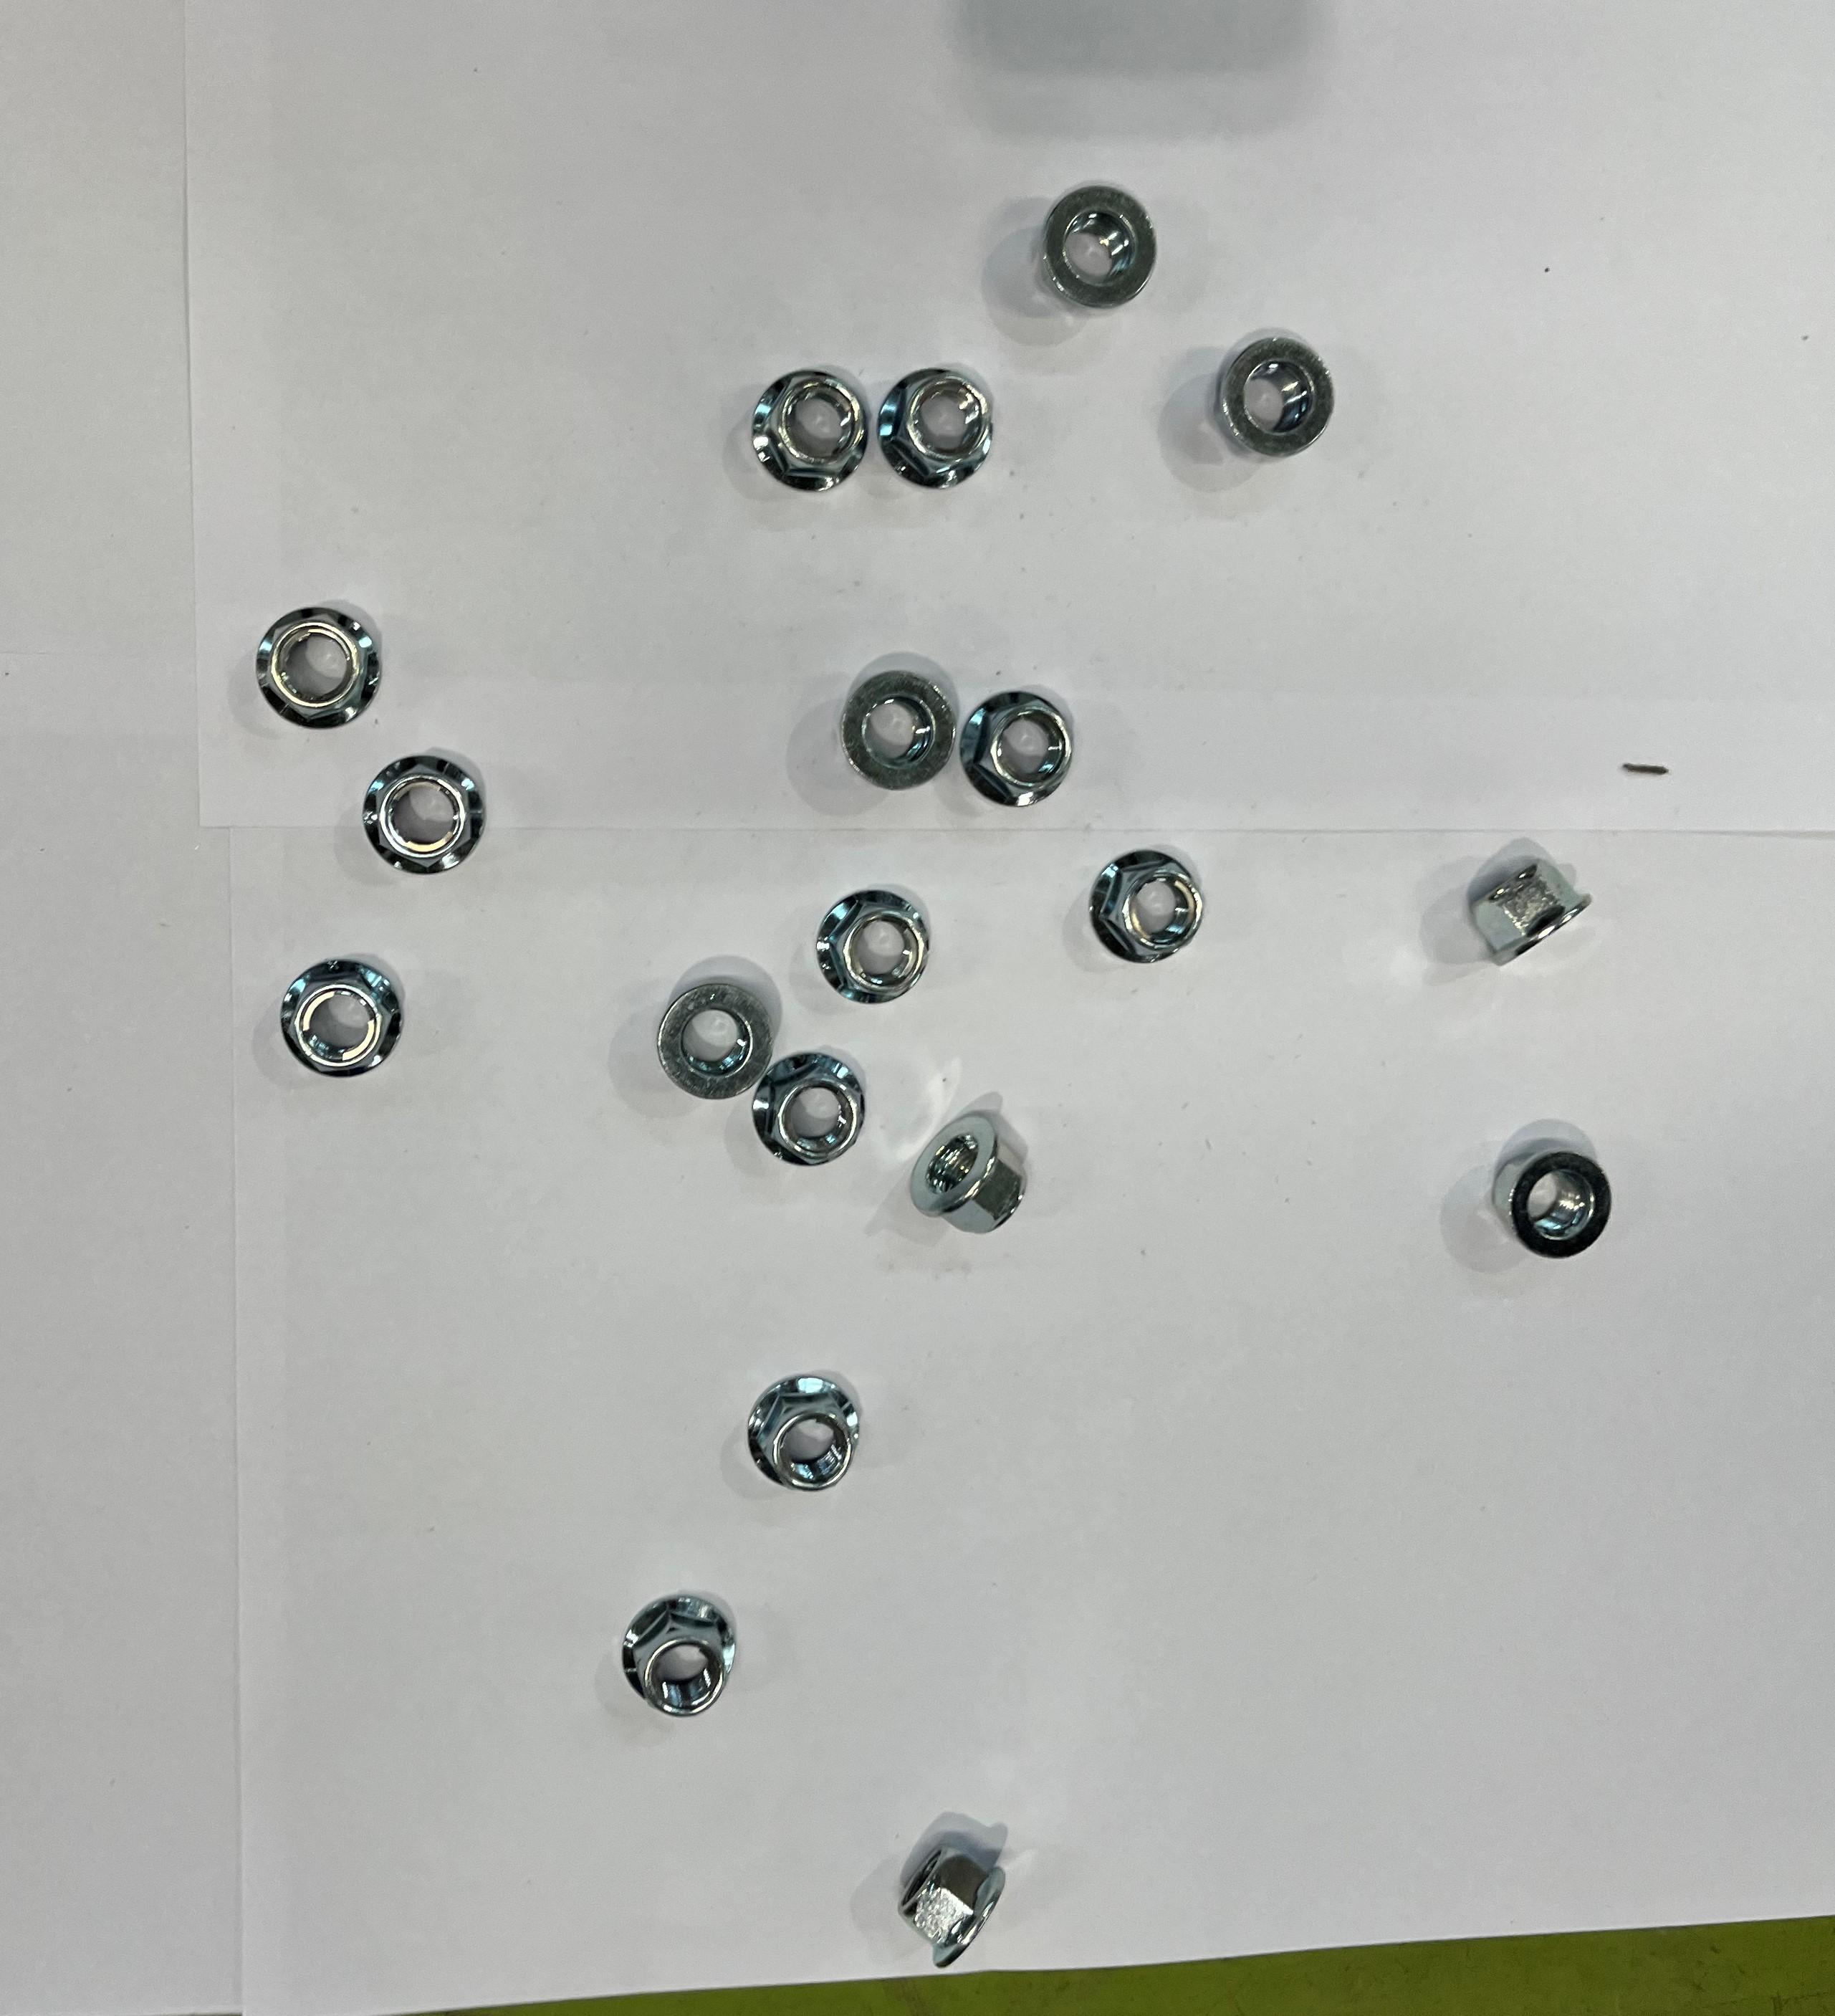Type B: (255, 606, 399, 732), (337, 757, 486, 873), (1036, 188, 1159, 309), (1213, 337, 1336, 457), (911, 1115, 1029, 1236), (281, 959, 399, 1078), (1472, 850, 1589, 969), (753, 371, 869, 492), (752, 1047, 867, 1168), (1494, 1141, 1612, 1259), (839, 673, 955, 792), (878, 369, 994, 486), (618, 1596, 732, 1716), (746, 1379, 859, 1494), (658, 987, 771, 1099), (815, 892, 931, 1001), (896, 1851, 1003, 1967), (962, 694, 1073, 804), (1092, 853, 1201, 966)
